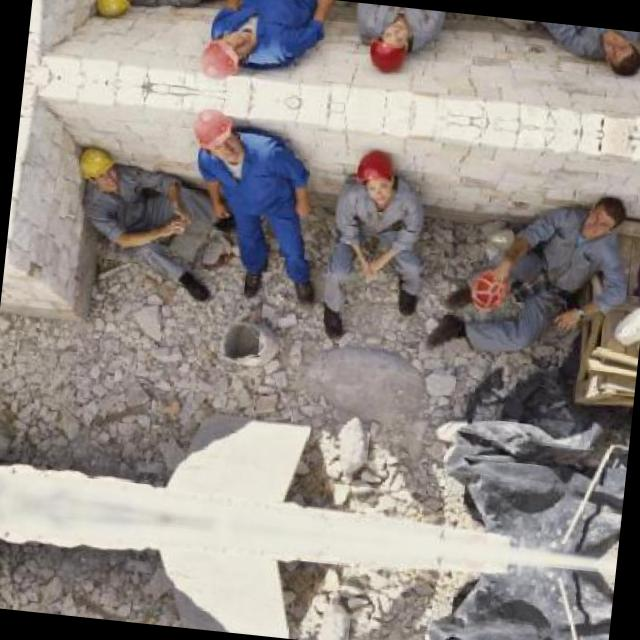helmet: (186, 104, 252, 165), (195, 22, 260, 82), (70, 140, 126, 193), (353, 148, 400, 208), (368, 13, 414, 73), (87, 0, 144, 22)
